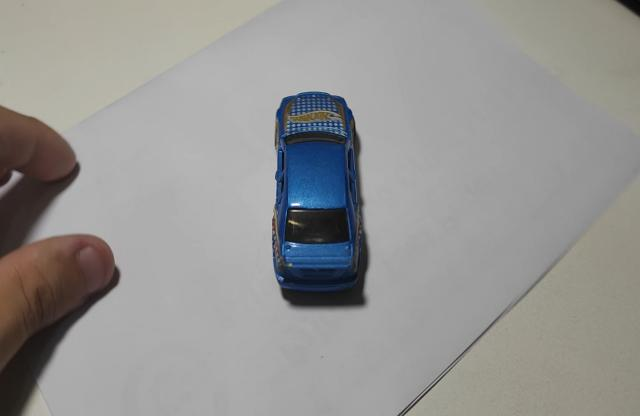04_MERZEDES: (272, 92, 367, 295)
